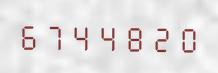eight: (121, 20, 146, 53)
four: (95, 19, 120, 53), (69, 19, 94, 52)
seven: (43, 18, 68, 52)
six: (17, 18, 42, 51)
two: (147, 20, 172, 54)
zero: (173, 21, 198, 54)
